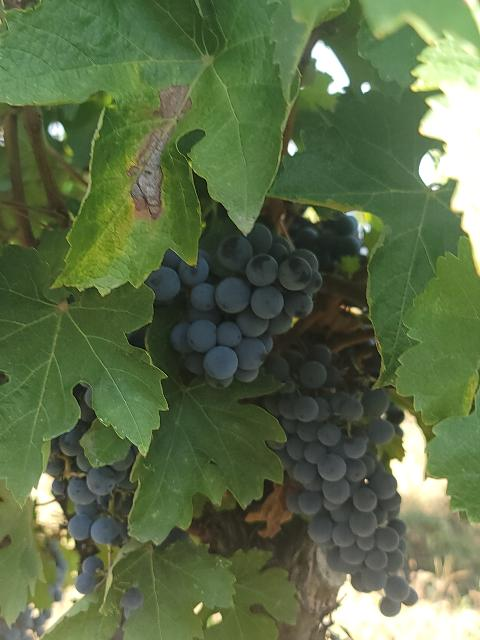grapes: (265, 344, 418, 612), (146, 224, 321, 386)
